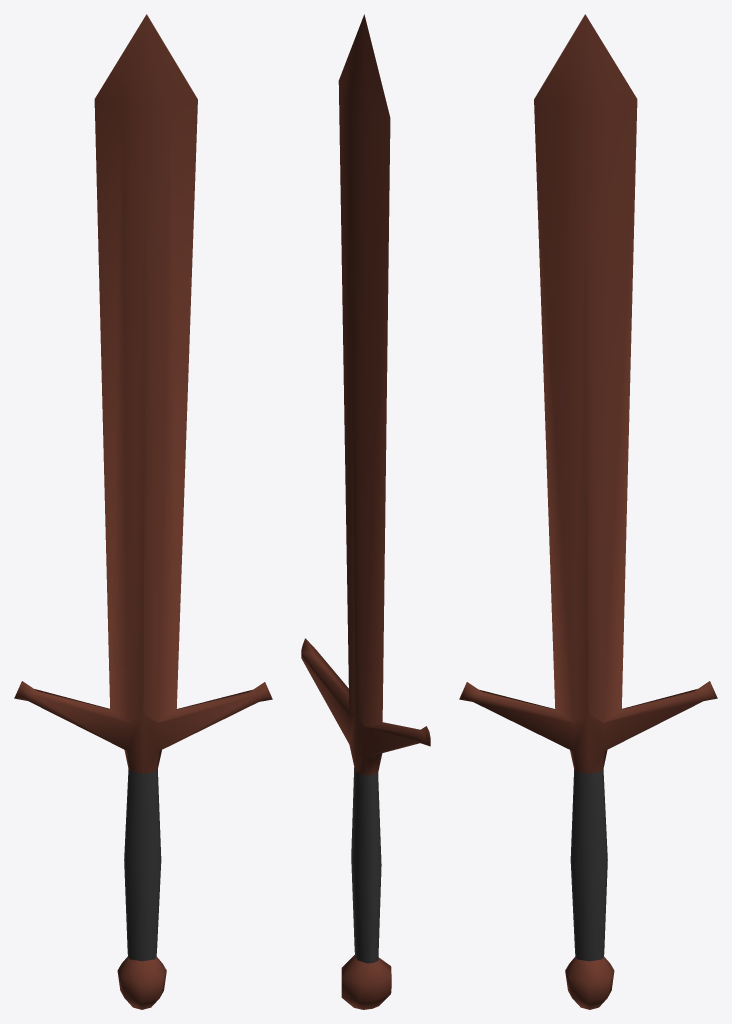
The model's file is bronze_2hd.glb.
3 renders of one model, left to right at view 1: azimuth 90°, elevation 25°; view 2: azimuth 210°, elevation 25°; view 3: azimuth 270°, elevation 25°, orthographic.
Visible parts, largest first — view 1: bronze2hd sword; view 2: bronze2hd sword; view 3: bronze2hd sword.
Boxes of the visible parts, <box> form: bronze2hd sword: <box>14,14,272,1009</box>; bronze2hd sword: <box>301,14,430,1009</box>; bronze2hd sword: <box>459,14,717,1009</box>.
Bounding box in the file's own units: 0.0473 × 0.8927 × 0.2115.
